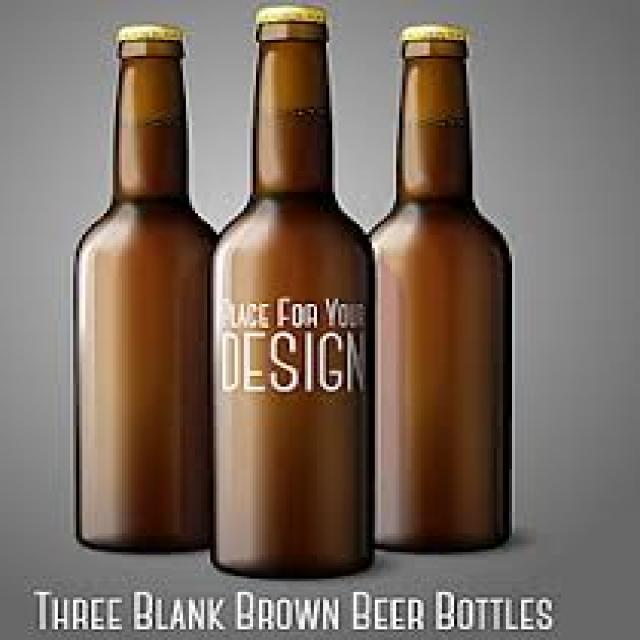glass: (204, 19, 375, 576), (357, 40, 509, 549), (70, 37, 216, 552)
metal: (250, 0, 326, 19), (393, 21, 466, 40), (110, 24, 183, 40)
